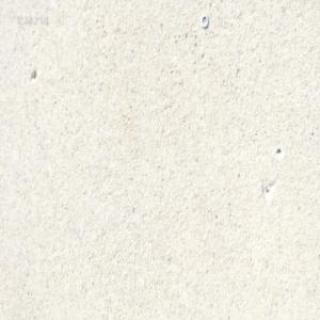Washertrack_idkeyframe: (200, 14, 208, 28)
